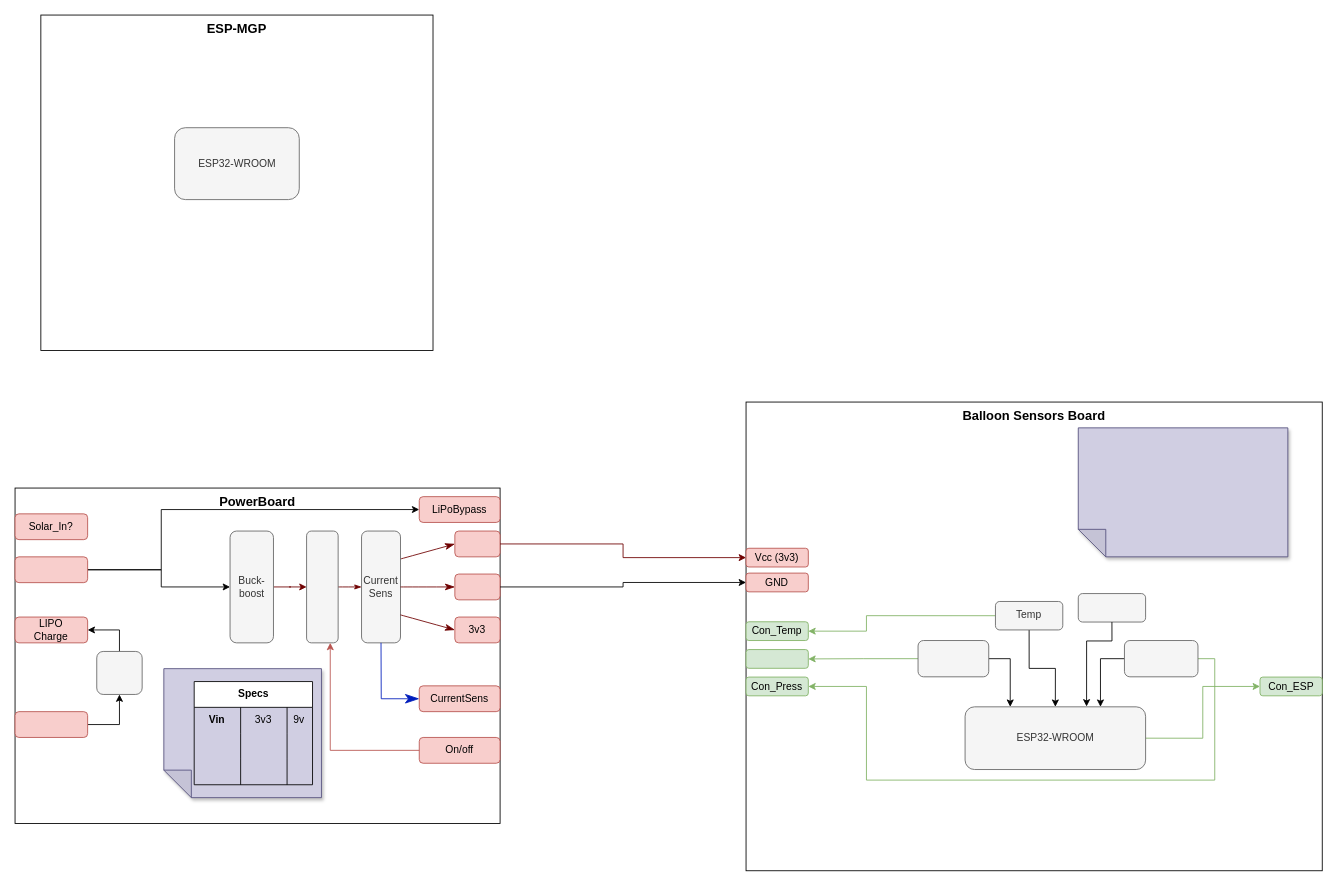
Some shapes in this 1337 by 886 pixel diagram are drawn without their labels. The centre of each missing label's shape, as x and y in pixels:
12v: [477,543]
1s/2s: [51,569]
5v: [477,586]
BMI160?: [953,658]
BMS: [119,672]
Con_IMU: [776,658]
GPS: [1111,607]
Lineal: [322,586]
Pressure: [1161,658]
USB_charge: [51,724]
